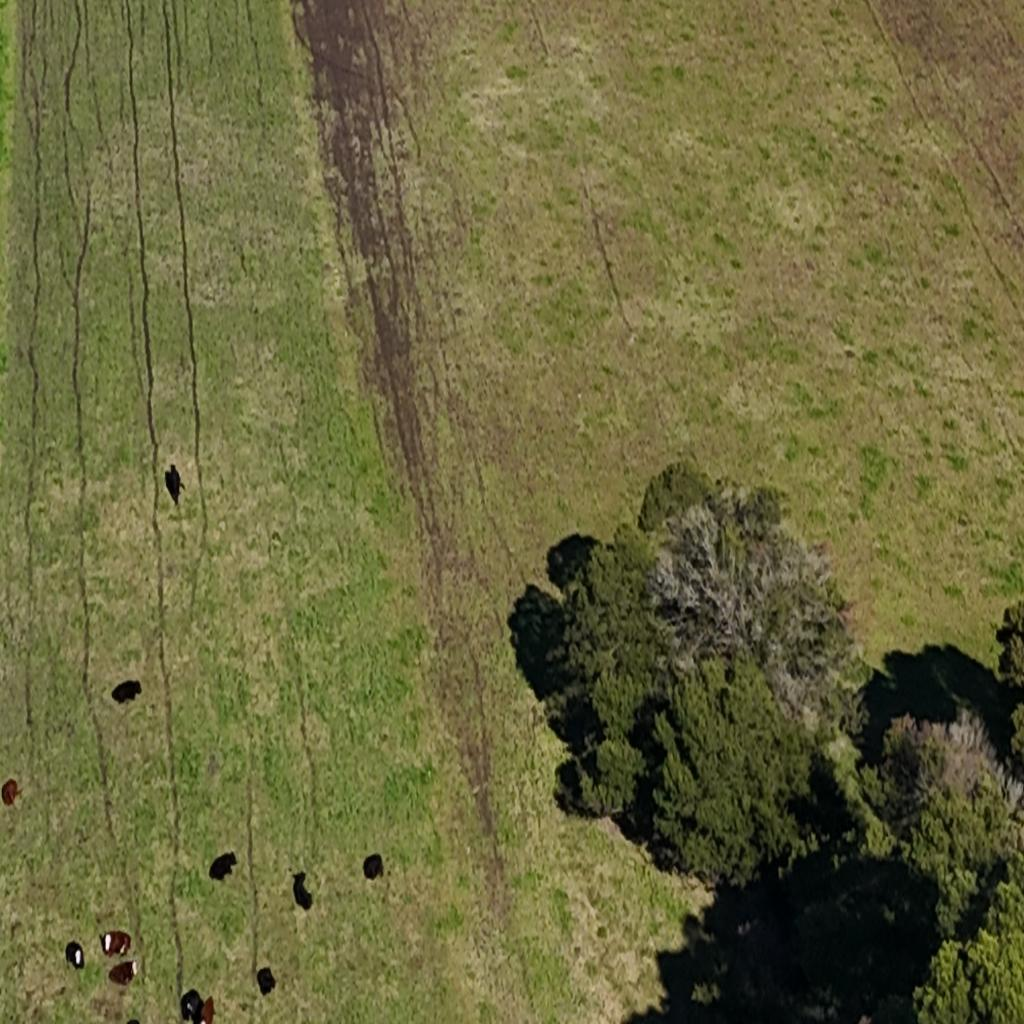cow: (100, 929, 131, 957), (292, 871, 313, 911), (180, 988, 204, 1023), (209, 851, 237, 881), (108, 959, 138, 986), (111, 679, 142, 705), (164, 463, 182, 504), (362, 852, 384, 880), (2, 778, 23, 807), (256, 967, 276, 996), (65, 941, 84, 970)
